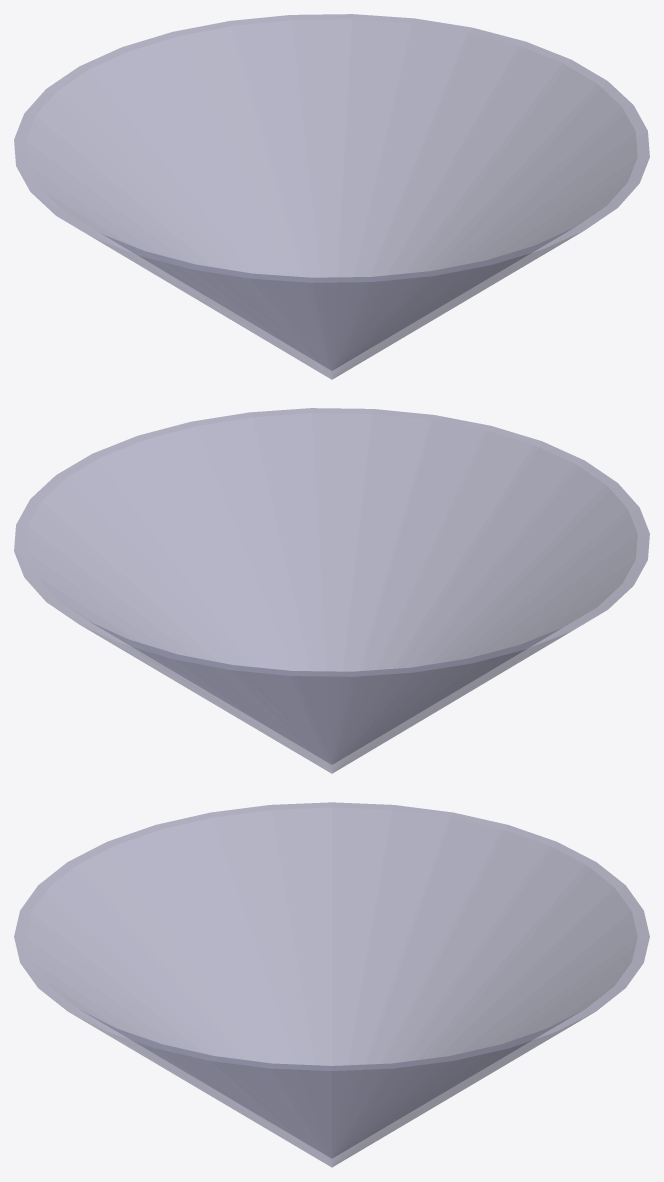
The model's file is cone2blue.dae.
The picture shows the model from 3 angles, top to bottom: view 1: azimuth 30°, elevation 25°; view 2: azimuth 150°, elevation 25°; view 3: azimuth 270°, elevation 25°; orthographic projection.
Visible parts, largest first — view 1: Cone; view 2: Cone; view 3: Cone.
Boxes of the visible parts, x1,y1,x2,y2 form: Cone: [14, 14, 649, 379]; Cone: [14, 408, 649, 773]; Cone: [14, 802, 649, 1167].
Size of the model in its own units: 0.6562 by 0.6562 by 0.2629.
